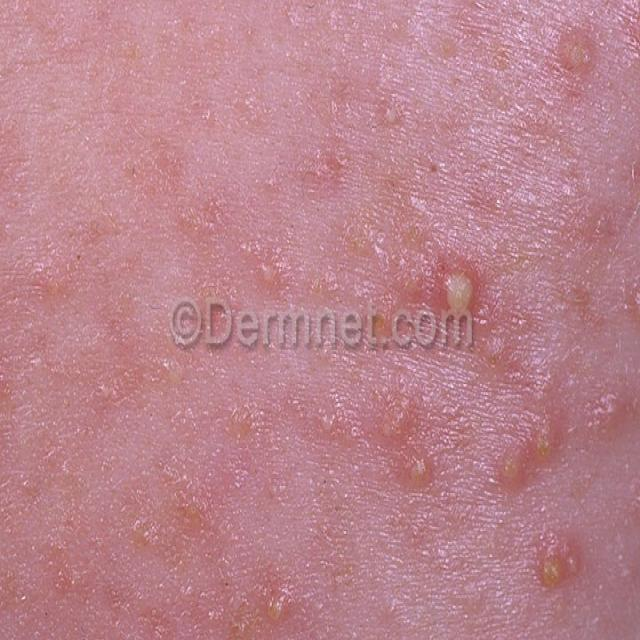Acne: (493, 410, 562, 497), (528, 527, 585, 593), (557, 22, 598, 110), (252, 569, 298, 638), (372, 382, 416, 452), (437, 253, 481, 320), (583, 382, 629, 446), (394, 441, 442, 497), (248, 238, 291, 300), (220, 395, 263, 446), (310, 396, 348, 446), (154, 348, 192, 393)
